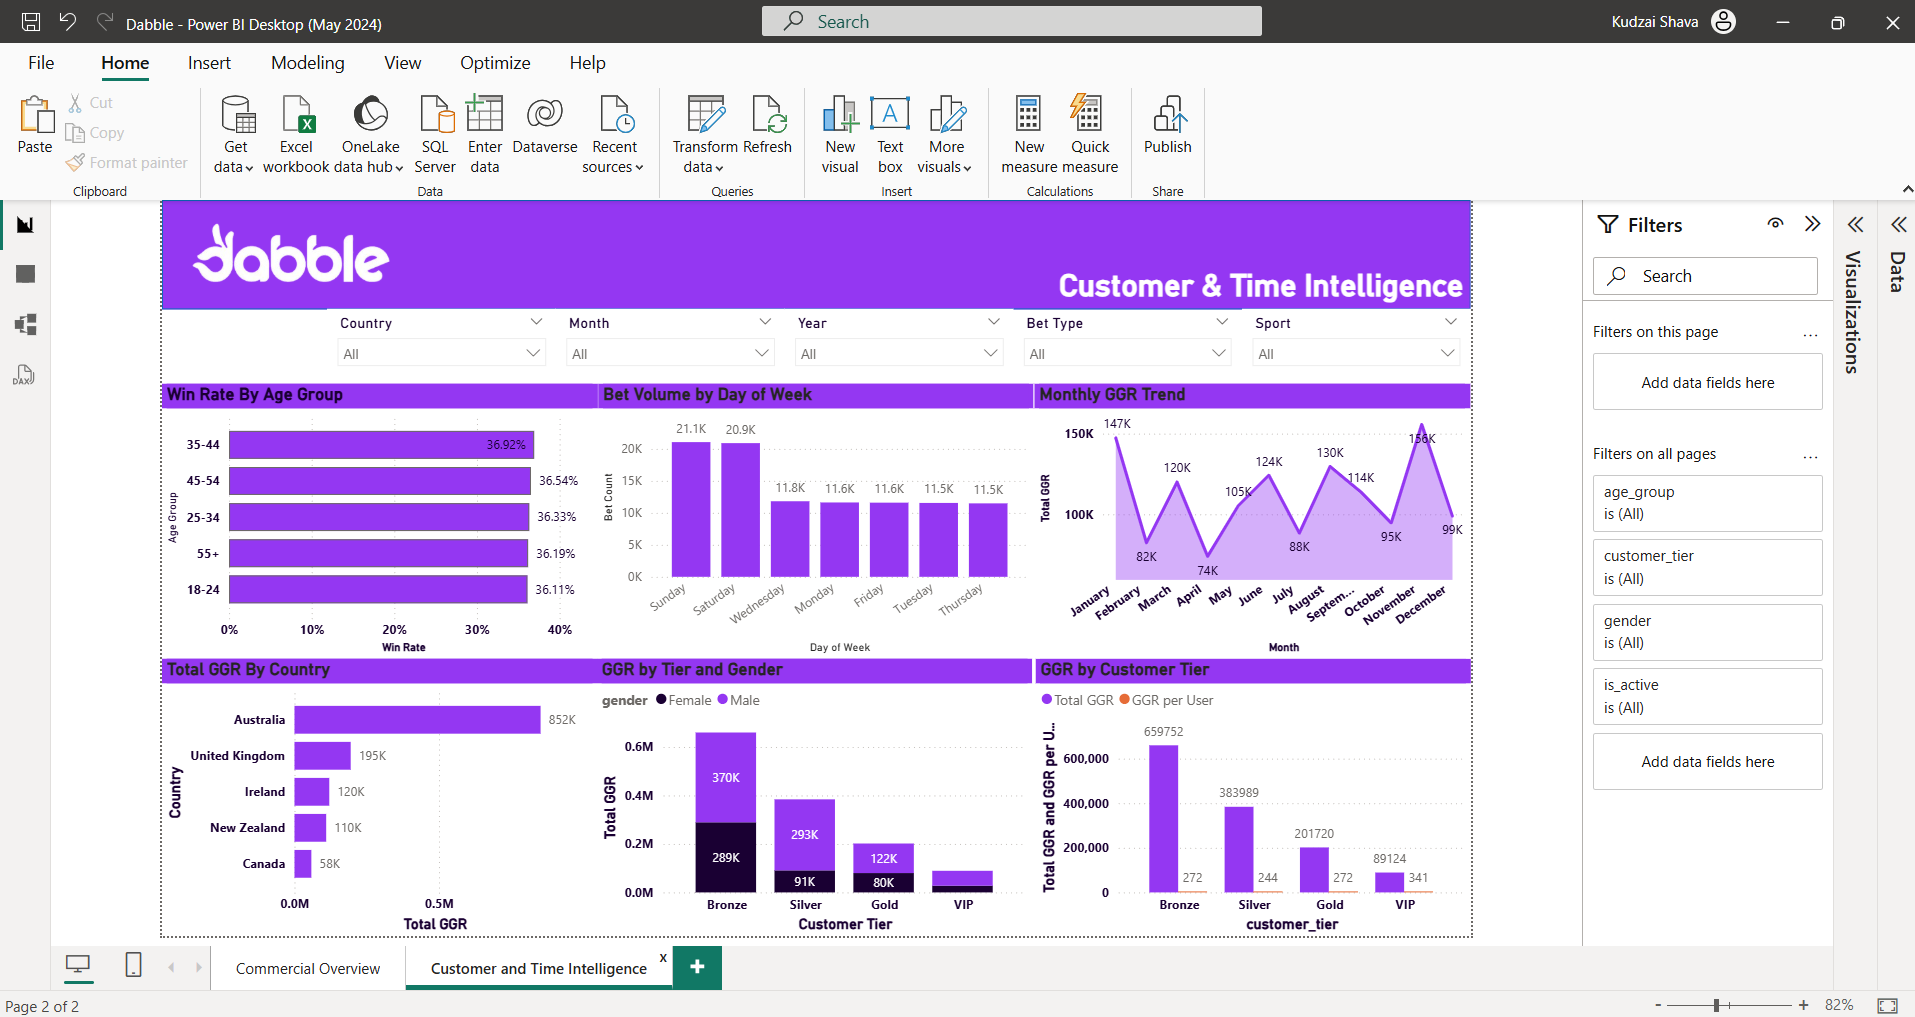

This screenshot's page, from the dashboard's own definition file:
{"tool":"powerbi","page":{"name":"Customer and Time Intelligence","canvas":[1280,720],"ordinal":1},"visuals":[{"type":"slicer","fields":{"Values":["bets.bet_type"]},"box":[833,106.8,223.6,72.9],"z":0},{"type":"shape","box":[0,0,1280.3,107],"z":1000},{"type":"image","box":[0,0,262.1,107],"z":2000},{"type":"slicer","fields":{"Values":["bets.sport"]},"box":[1056.6,106.8,223.6,72.9],"z":3000},{"type":"clusteredBarChart","title":"Win Rate By Age Group","fields":{"Category":["dim_users.age_group"],"Y":["All_Measures.Win Rate"]},"box":[0,179.7,426,268.9],"z":4000},{"type":"clusteredBarChart","title":"Total GGR By Country","fields":{"Category":["dim_users.country"],"Y":["All_Measures.Total GGR"]},"box":[0,448.3,425.8,272.3],"z":5000},{"type":"clusteredColumnChart","title":"Bet Volume by Day of Week","fields":{"Category":["dim_date.day_of_week"],"Y":["CountNonNull(fact_bets.bet_id)"]},"box":[427.2,179.7,425.9,268.9],"z":6000},{"type":"columnChart","title":"GGR by Tier and Gender","fields":{"Category":["dim_users.customer_tier"],"Y":["All_Measures.Total GGR"],"Series":["dim_users.gender"]},"box":[425.8,448.3,425.8,272.3],"z":7000},{"type":"clusteredColumnChart","title":"GGR by Customer Tier","fields":{"Category":["dim_users.customer_tier"],"Y":["All_Measures.Total GGR","All_Measures.GGR per User"]},"box":[854.5,448.3,425.8,272.3],"z":8000},{"type":"areaChart","title":"Monthly GGR Trend","fields":{"Category":["dim_date.date.Variation.Date Hierarchy.Month"],"Y":["All_Measures.Total GGR"]},"box":[853.1,179.7,426,268.9],"z":9000},{"type":"slicer","fields":{"Values":["dim_date.date.Variation.Date Hierarchy.Year"]},"box":[609.3,106.8,224.2,72.2],"z":9001},{"type":"slicer","fields":{"Values":["dim_date.date.Variation.Date Hierarchy.Month"]},"box":[385.1,106.8,224.2,72.2],"z":9002},{"type":"slicer","fields":{"Values":["dim_users.country"]},"box":[161,106.8,224.2,72.2],"z":9003},{"type":"textbox","title":"Customer & Time Intelligence","box":[767.3,66.2,511.5,40.6],"z":9004}]}

Visuals, with their boxes on the page's 1280x720 design canvas (x1, y1, x2, y2). These are canvas units, not pixel positions in the 1915x1017 screenshot, which may show the page scaled, cropped or inside an application window:
slicer - bets.bet_type: bbox=[833, 107, 1057, 180]
shape: bbox=[0, 0, 1280, 107]
image: bbox=[0, 0, 262, 107]
slicer - bets.sport: bbox=[1057, 107, 1280, 180]
"Win Rate By Age Group" clusteredBarChart: bbox=[0, 180, 426, 449]
"Total GGR By Country" clusteredBarChart: bbox=[0, 448, 426, 721]
"Bet Volume by Day of Week" clusteredColumnChart: bbox=[427, 180, 853, 449]
"GGR by Tier and Gender" columnChart: bbox=[426, 448, 852, 721]
"GGR by Customer Tier" clusteredColumnChart: bbox=[854, 448, 1280, 721]
"Monthly GGR Trend" areaChart: bbox=[853, 180, 1279, 449]
slicer - dim_date.date.Variation.Date Hierarchy.Year: bbox=[609, 107, 834, 179]
slicer - dim_date.date.Variation.Date Hierarchy.Month: bbox=[385, 107, 609, 179]
slicer - dim_users.country: bbox=[161, 107, 385, 179]
"Customer & Time Intelligence" textbox: bbox=[767, 66, 1279, 107]
